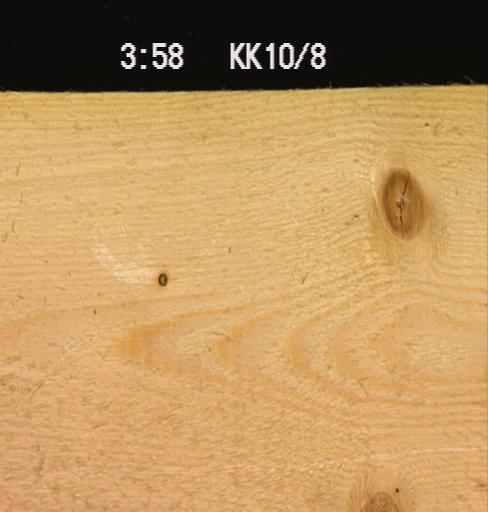dry_knot: (154, 268, 168, 287)
edge_knot: (355, 485, 404, 511)
sound_knot: (378, 166, 428, 240)
